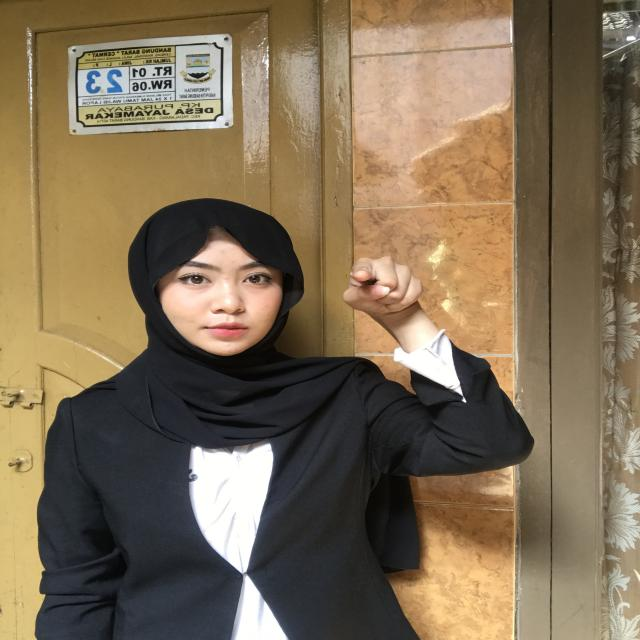kamu: (304, 230, 502, 338)
